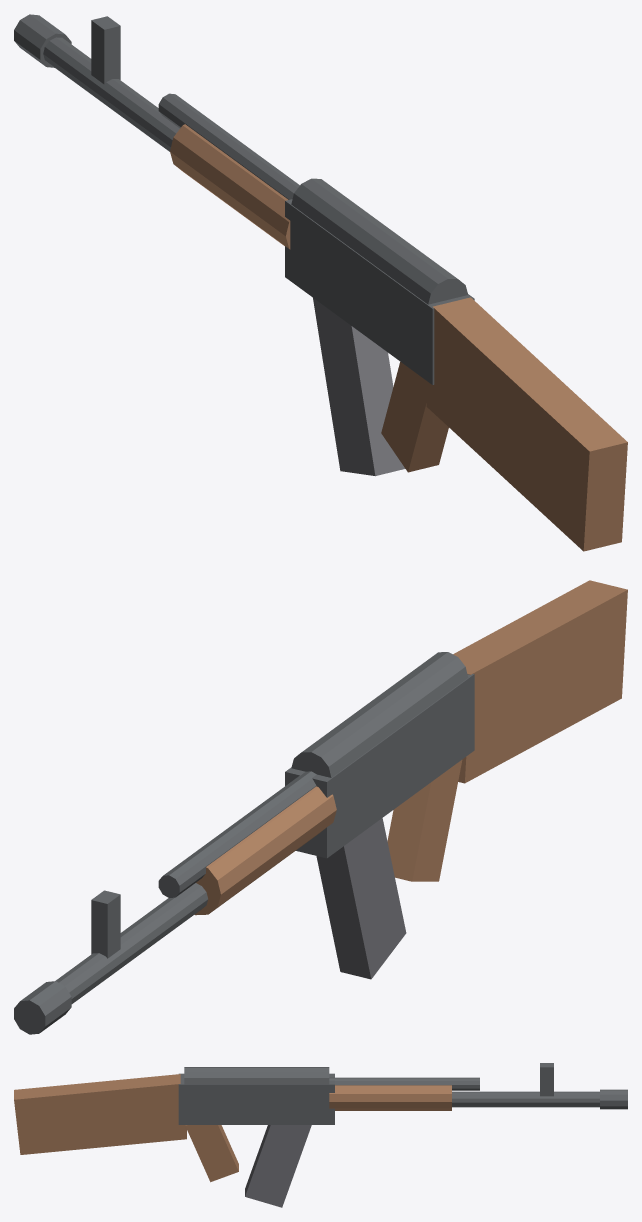
File: Weapon_AssaultRifle.fbx
The picture shows the model from 3 angles, top to bottom: view 1: azimuth 30°, elevation 25°; view 2: azimuth 150°, elevation 25°; view 3: azimuth 270°, elevation 25°; orthographic projection. The views are drawn at different scales.
Parts seen in each view (by area): view 1: Weapon_AssaultRifle; view 2: Weapon_AssaultRifle; view 3: Weapon_AssaultRifle.
Part boxes in pixels (bbox=[...]): Weapon_AssaultRifle: bbox=[14, 14, 627, 551]; Weapon_AssaultRifle: bbox=[14, 580, 627, 1034]; Weapon_AssaultRifle: bbox=[14, 1063, 627, 1207].
Size of the model in its own units: 0.056 by 0.2739 by 1.1.
